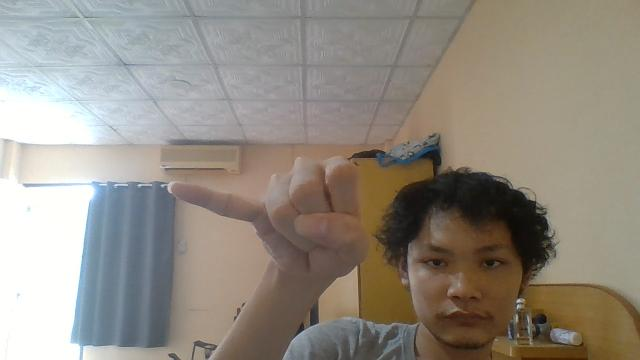Right: (167, 156, 365, 284)
